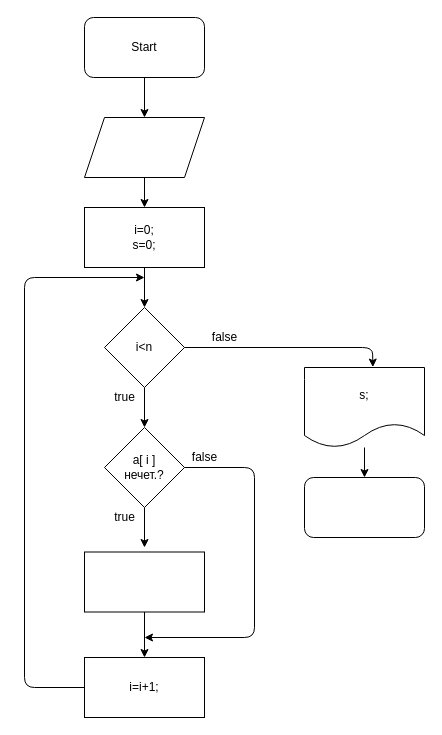
The diagram is 442 pixels wide and 735 high, and some of its shapes have lost their labels. The centre of each missing label's shape, as x and y in pixels:
Finish: pixel 364 507
n; a[];: pixel 144 147
s=s+a[ i ];: pixel 144 581
